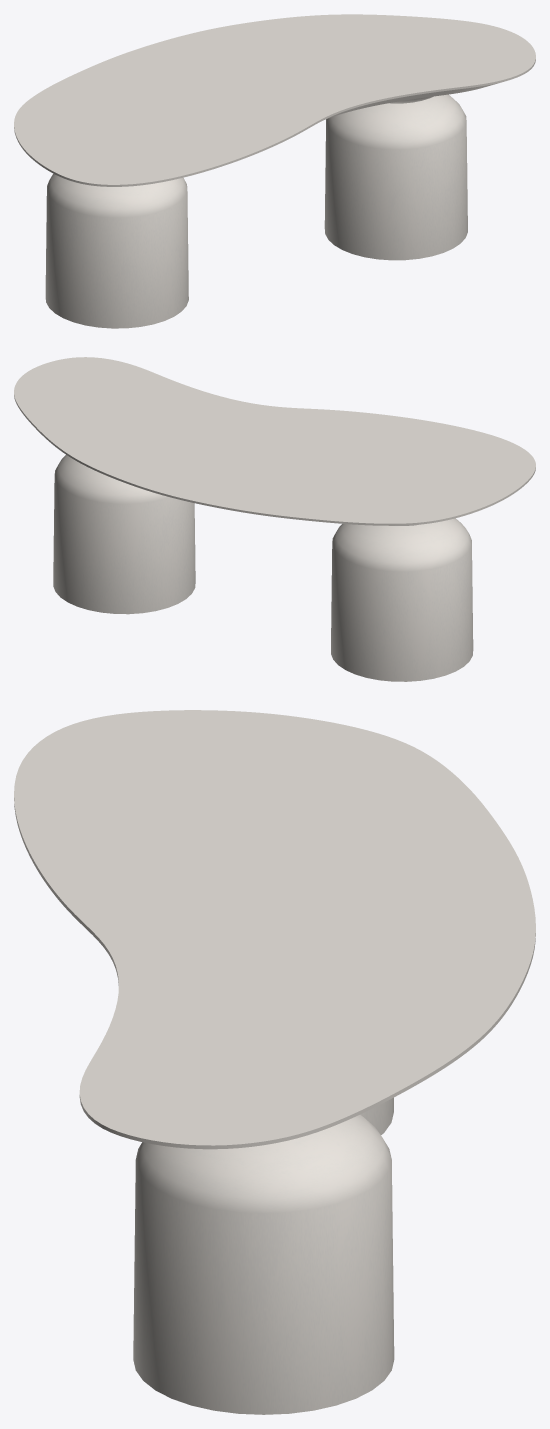
The model's file is pearlwhite_leaf1_facet_tornado.glb.
The picture shows the model from 3 angles, top to bottom: view 1: azimuth 30°, elevation 25°; view 2: azimuth 150°, elevation 25°; view 3: azimuth 270°, elevation 25°; orthographic projection. The views are drawn at different scales.
Visible parts, largest first — view 1: facet_leaf1, tornado; view 2: facet_leaf1, tornado; view 3: facet_leaf1, tornado.
Part boxes in pixels (<box>): facet_leaf1: <box>14,14,535,186</box>; tornado: <box>45,94,467,328</box>; facet_leaf1: <box>14,357,535,525</box>; tornado: <box>53,455,473,681</box>; facet_leaf1: <box>14,710,535,1149</box>; tornado: <box>133,1097,394,1414</box>.
Bounding box in the file's own units: 7.5 × 2.53 × 3.8.
1 material, 1 textured.
